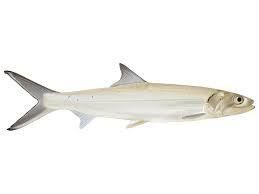Tenpounder: (4, 60, 256, 132)
